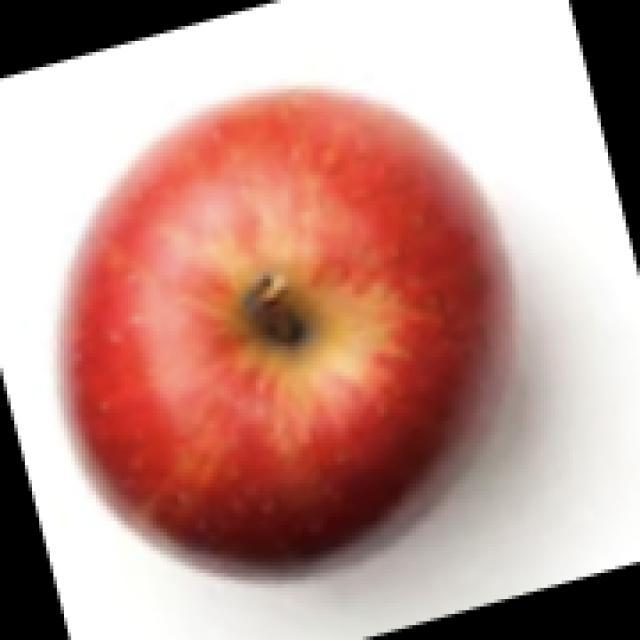Fresh Apple: (72, 78, 495, 587)
